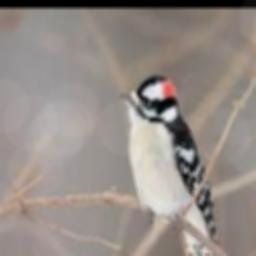Woodpecker: (120, 75, 217, 256)
